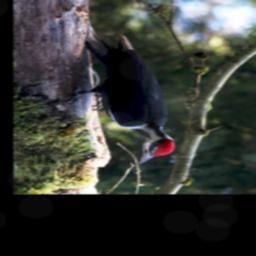Woodpecker: (58, 23, 176, 165)
